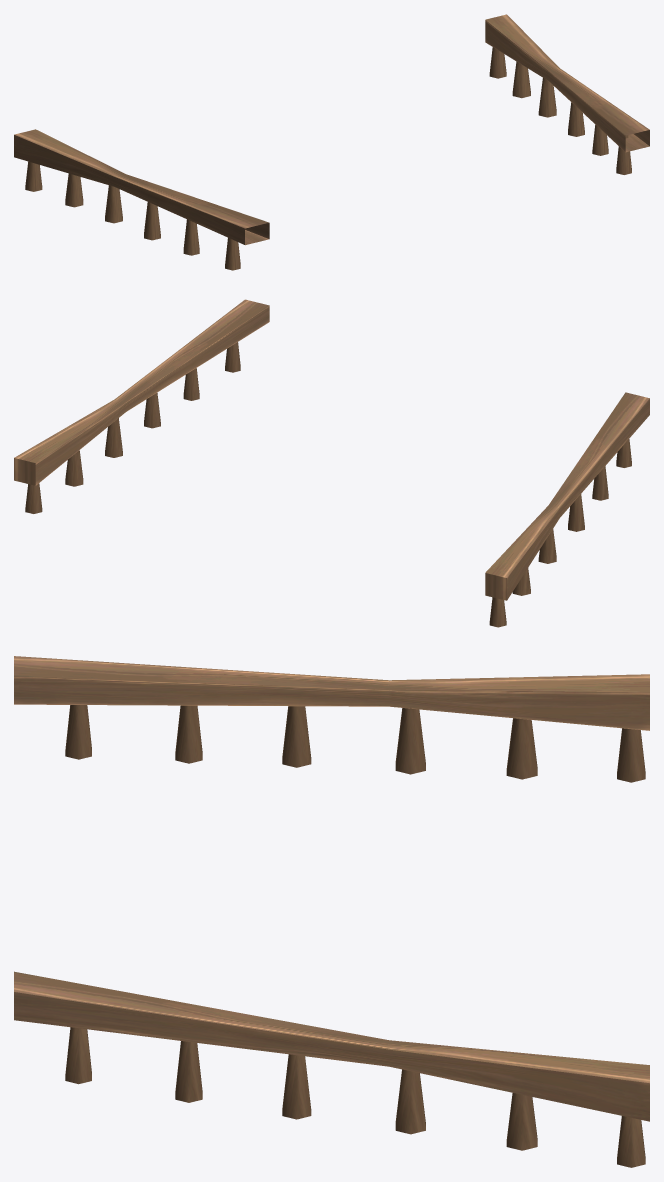
File: A_HA_GEN_Ship_Rails_Back_01.fbx
3 views of the same model, one above another, from view 1: azimuth 30°, elevation 25°; view 2: azimuth 150°, elevation 25°; view 3: azimuth 270°, elevation 25° (orthographic). The views are drawn at different scales.
Parts seen in each view (by area): view 1: A_HA_Gen_Ship_Rails_Back_01; view 2: A_HA_Gen_Ship_Rails_Back_01; view 3: A_HA_Gen_Ship_Rails_Back_01.
Boxes of the visible parts, box(x1,y1,x2,y2) form: A_HA_Gen_Ship_Rails_Back_01: box(14, 14, 649, 270); A_HA_Gen_Ship_Rails_Back_01: box(14, 299, 649, 627); A_HA_Gen_Ship_Rails_Back_01: box(14, 656, 649, 1167).
Bounding box in the file's own units: 1017 × 167 × 668.
Materials: 1 (1 with a texture image).
